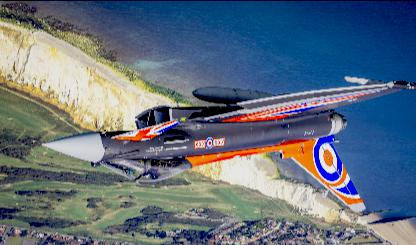E2: (41, 75, 415, 213)
